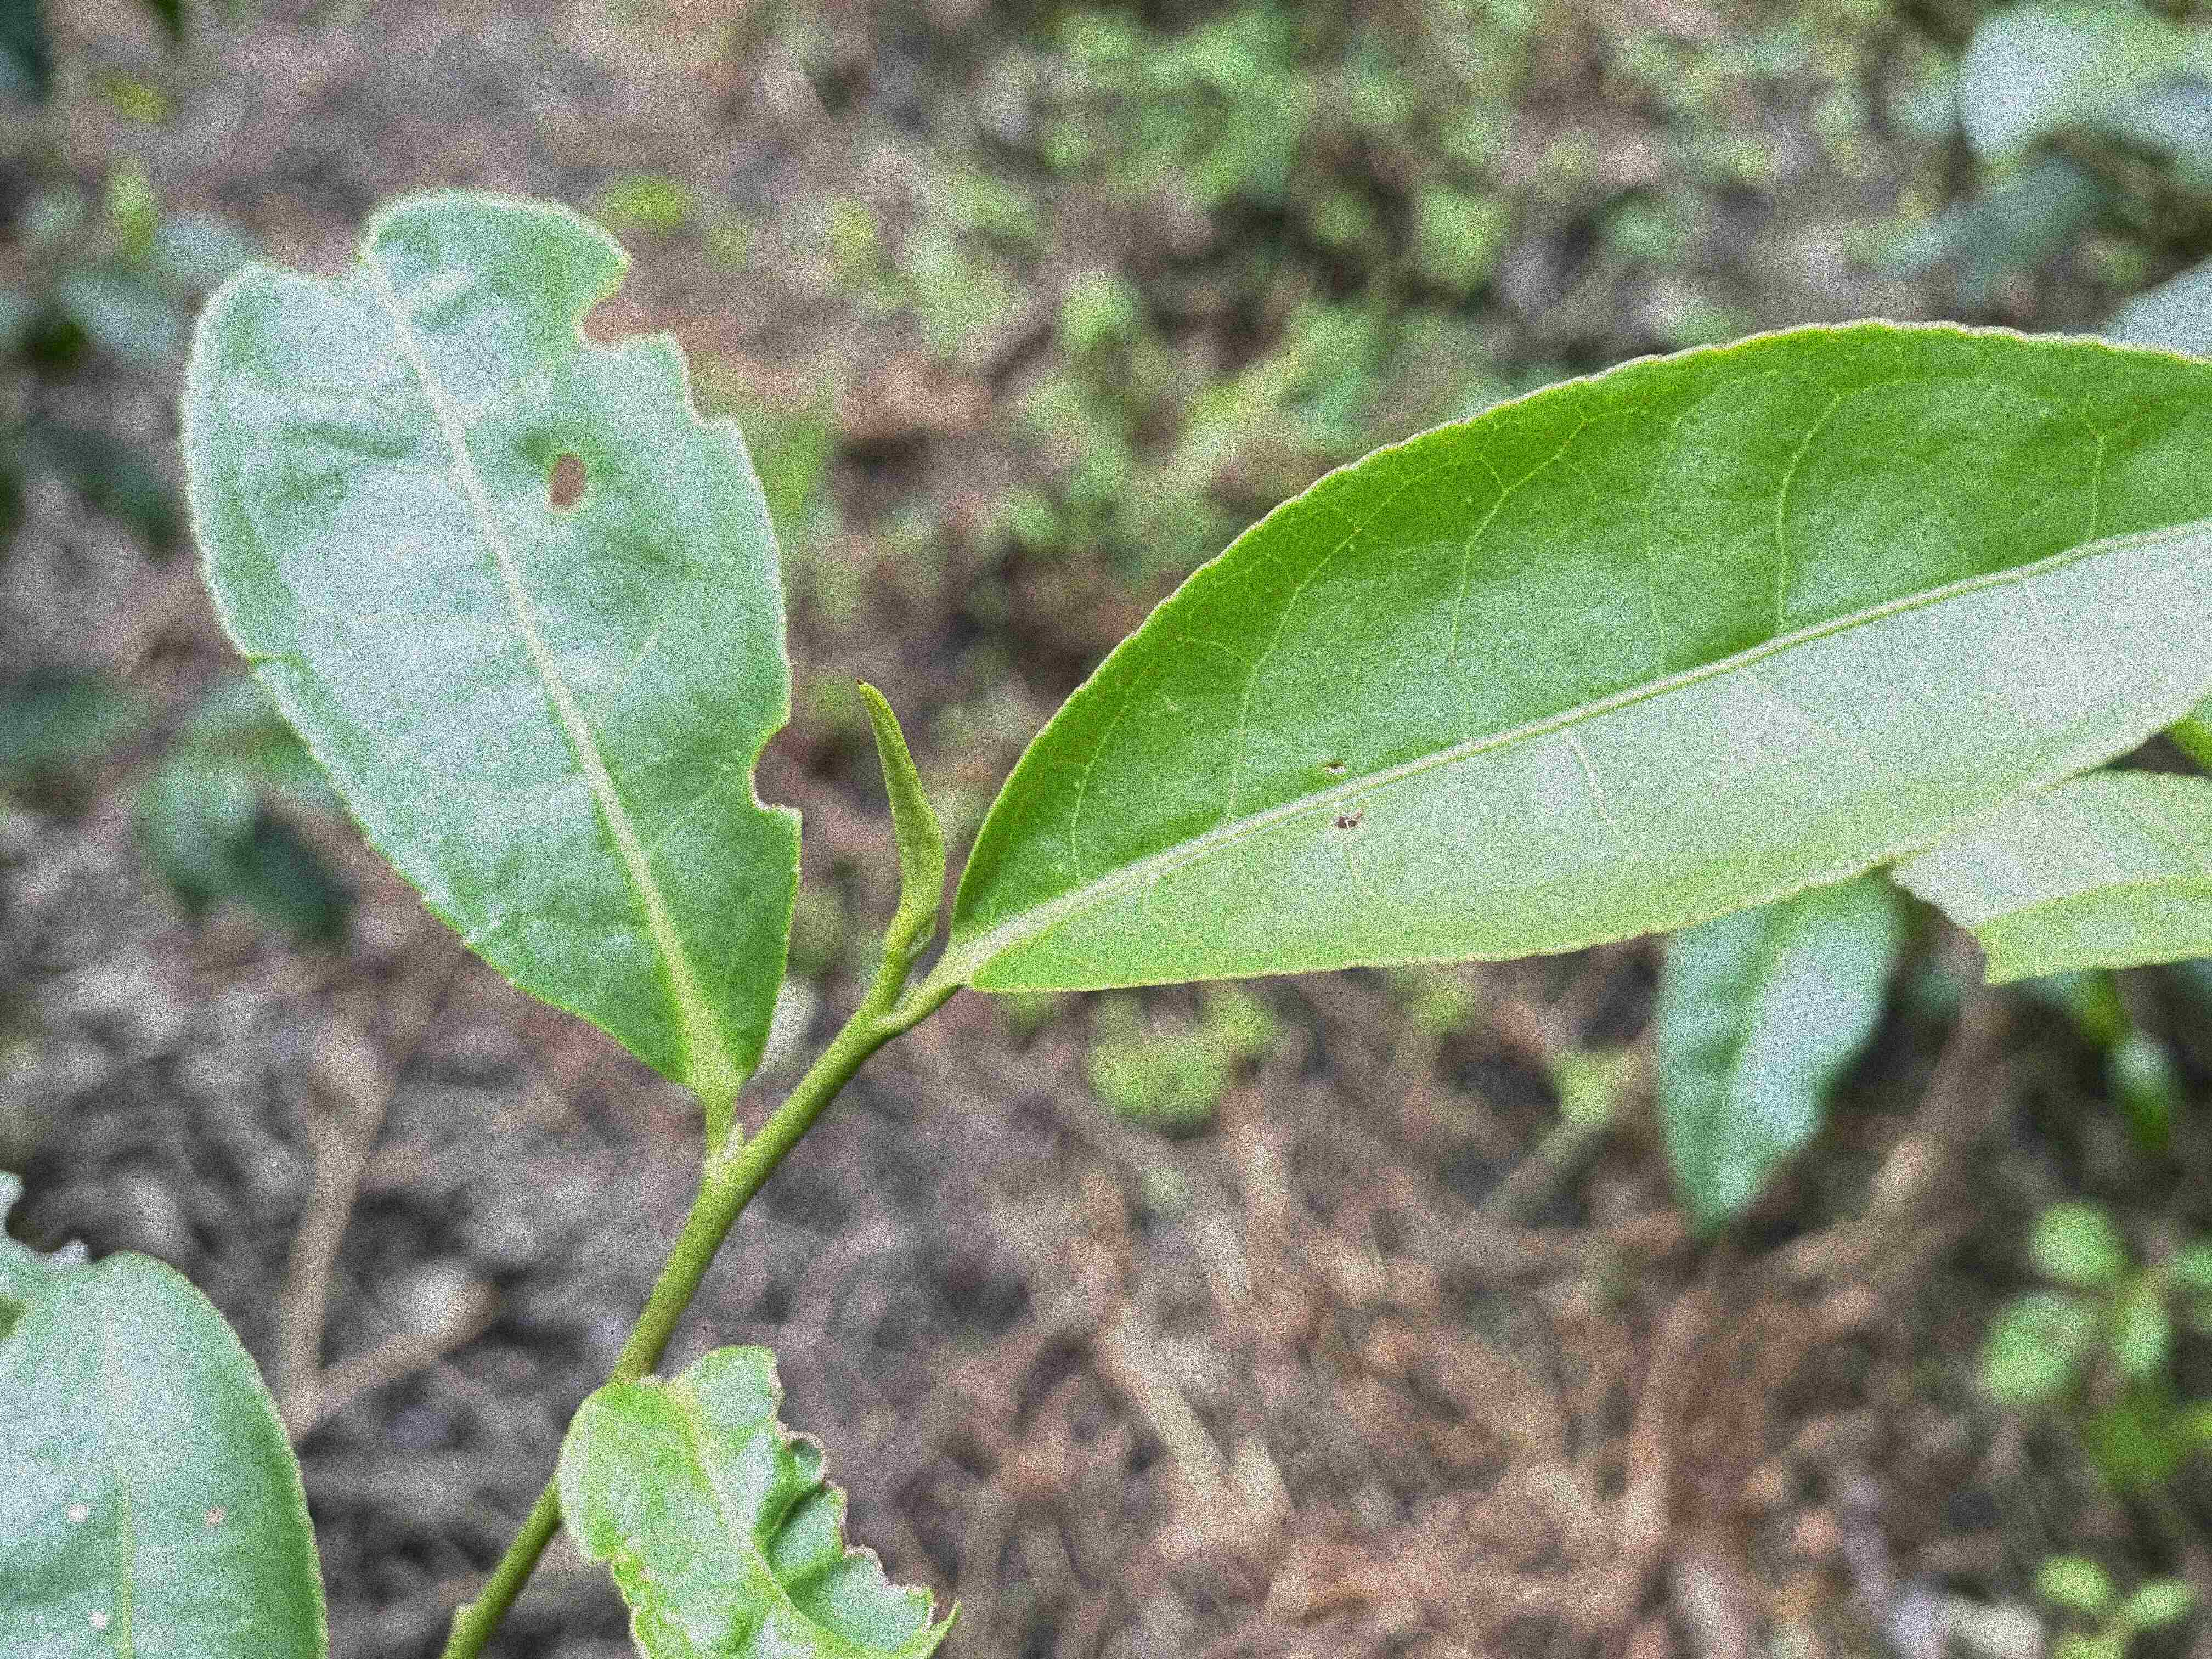chihuo_high: (176, 190, 806, 1094), (554, 1340, 960, 1656)
chihuo_low: (1893, 767, 2212, 990)
tanju_low: (951, 314, 2209, 999)
